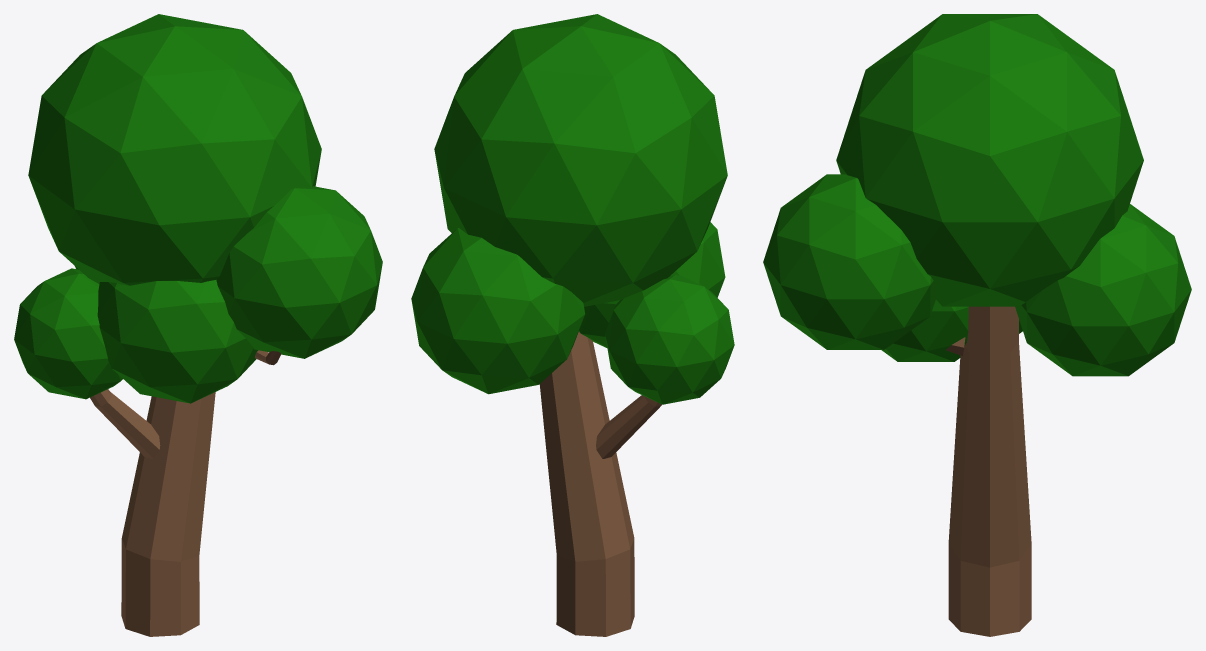
File: Tree2.fbx
3 renders of one model, left to right at view 1: azimuth 30°, elevation 25°; view 2: azimuth 150°, elevation 25°; view 3: azimuth 270°, elevation 25°, orthographic. The views are drawn at different scales.
Visible parts, largest first — view 1: Tree2; view 2: Tree2; view 3: Tree2.
Part boxes in pixels (box(x1,y1,x2,y2)): Tree2: box(14, 14, 382, 636); Tree2: box(411, 14, 734, 636); Tree2: box(763, 14, 1191, 636).
Size of the model in its own units: 392 by 804 by 516.
